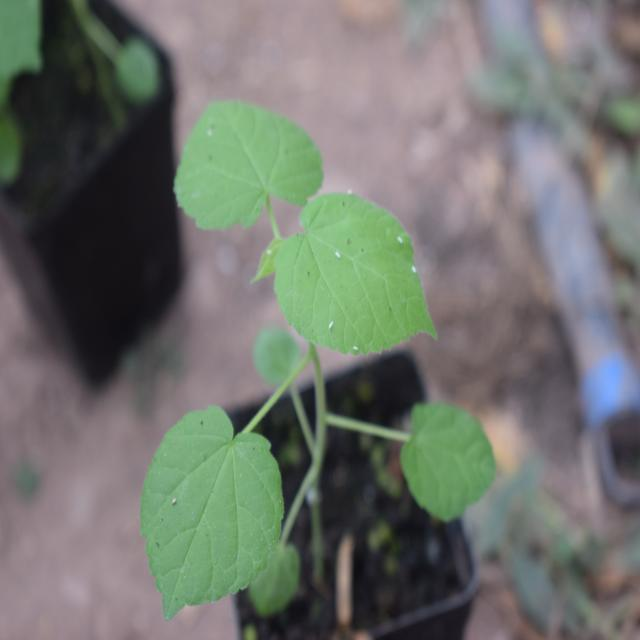abutilon theophrasti: (110, 84, 484, 580)
